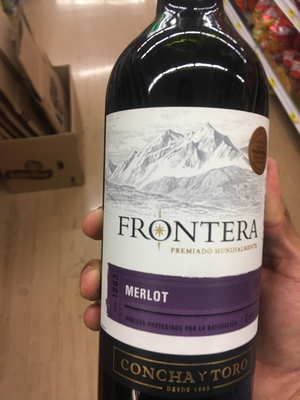frontera merlot: (94, 18, 266, 400)
